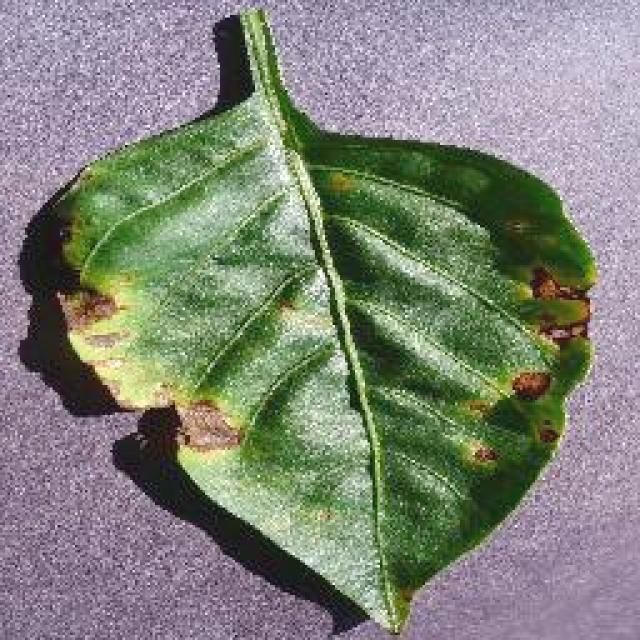Bercak Daun Serkospora: (44, 8, 597, 640)
